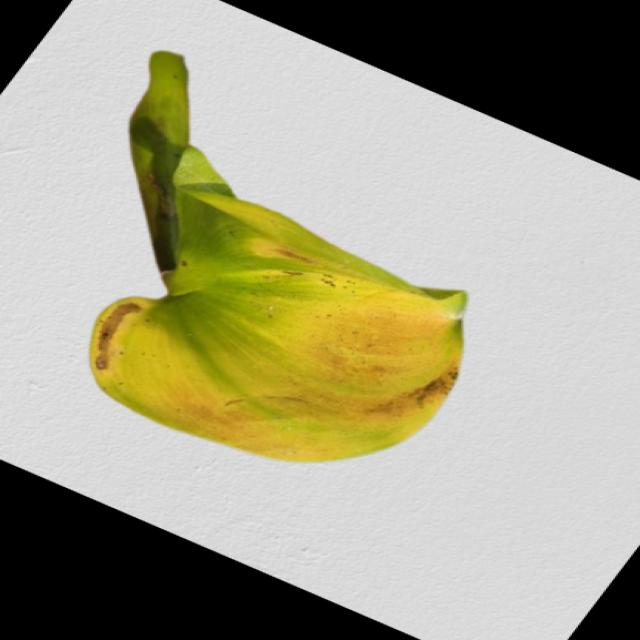daun berpenyakit kuning: (90, 51, 466, 461)
